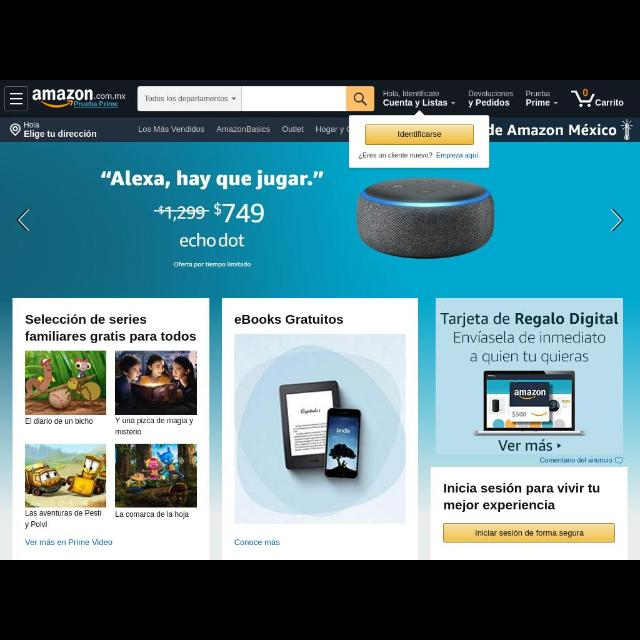button: (348, 88, 372, 110)
icon: (16, 206, 34, 232), (610, 207, 624, 233), (622, 120, 634, 140), (10, 92, 24, 108), (614, 456, 624, 466), (12, 124, 21, 134), (231, 96, 237, 102), (450, 102, 458, 106), (556, 100, 558, 106)
image: (2, 142, 638, 294), (234, 334, 406, 524), (476, 368, 586, 437), (26, 350, 106, 416), (114, 352, 198, 414), (26, 444, 106, 508), (116, 444, 196, 506), (34, 87, 128, 109), (571, 86, 595, 110)
input: (138, 87, 374, 113)
link: (25, 538, 111, 546), (437, 151, 481, 161), (234, 539, 280, 545)
multitab: (135, 118, 349, 142)
panel: (350, 115, 490, 167)
spinner: (140, 88, 240, 110), (379, 86, 459, 112), (519, 86, 565, 112)
text: (442, 310, 620, 364), (25, 314, 196, 344), (444, 483, 602, 511), (24, 510, 104, 530), (489, 124, 618, 136), (235, 314, 343, 328), (114, 418, 196, 434), (382, 89, 446, 107), (144, 94, 230, 105), (468, 89, 514, 109), (138, 124, 204, 136), (359, 150, 433, 160), (24, 130, 98, 138), (500, 440, 554, 450), (525, 89, 551, 107), (114, 512, 190, 518), (216, 125, 270, 133), (540, 457, 612, 463), (27, 418, 93, 424), (314, 126, 350, 134), (282, 125, 304, 134), (598, 99, 622, 107), (25, 122, 39, 128)
textbutton: (444, 522, 616, 544), (366, 124, 474, 146)
